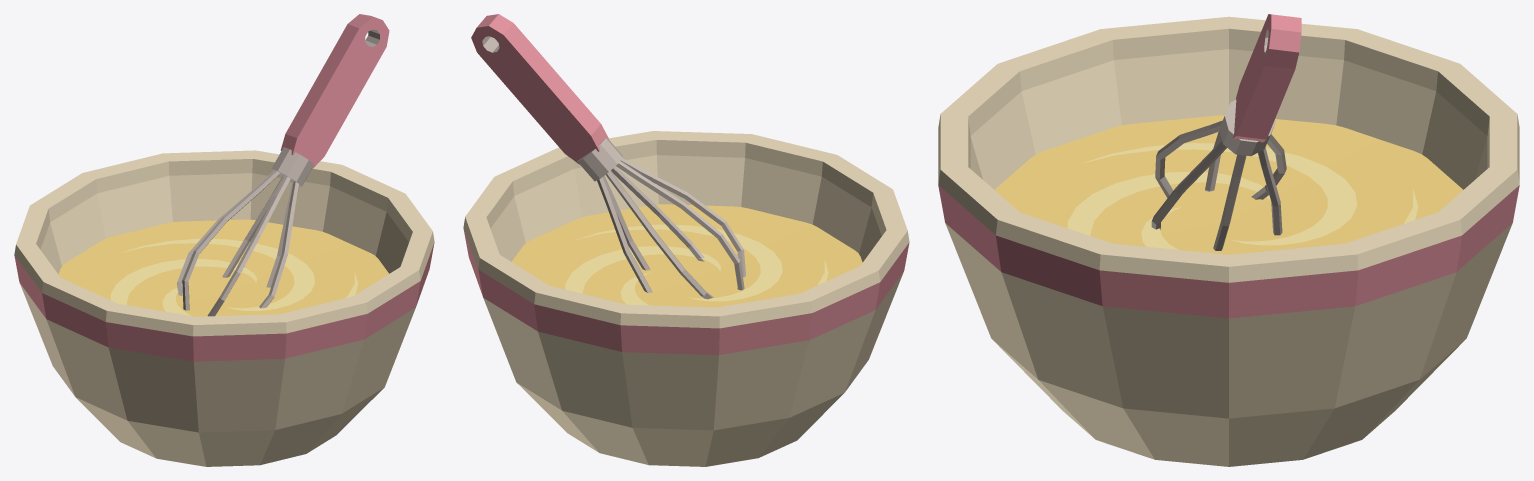
File: 05-mixing-bowl-and-whisk.glb
The picture shows the model from 3 angles, left to right: view 1: azimuth 30°, elevation 25°; view 2: azimuth 150°, elevation 25°; view 3: azimuth 270°, elevation 25°; orthographic projection. The views are drawn at different scales.
Visible parts, largest first — view 1: 01 Mixing bowl - hollow ceramic, 02 Vanilla batter, 03 Whisk - pink handle and metal loops; view 2: 01 Mixing bowl - hollow ceramic, 02 Vanilla batter, 03 Whisk - pink handle and metal loops; view 3: 01 Mixing bowl - hollow ceramic, 02 Vanilla batter, 03 Whisk - pink handle and metal loops.
Part boxes in pixels (bbox=[...]): 01 Mixing bowl - hollow ceramic: bbox=[14, 150, 434, 466]; 02 Vanilla batter: bbox=[58, 219, 388, 316]; 03 Whisk - pink handle and metal loops: bbox=[177, 14, 389, 316]; 01 Mixing bowl - hollow ceramic: bbox=[463, 131, 909, 466]; 02 Vanilla batter: bbox=[512, 204, 862, 307]; 03 Whisk - pink handle and metal loops: bbox=[471, 14, 745, 299]; 01 Mixing bowl - hollow ceramic: bbox=[938, 16, 1519, 466]; 02 Vanilla batter: bbox=[995, 115, 1462, 254]; 03 Whisk - pink handle and metal loops: bbox=[1151, 14, 1301, 250].
Size of the model in its own units: 2.52 by 2.34 by 2.46.
